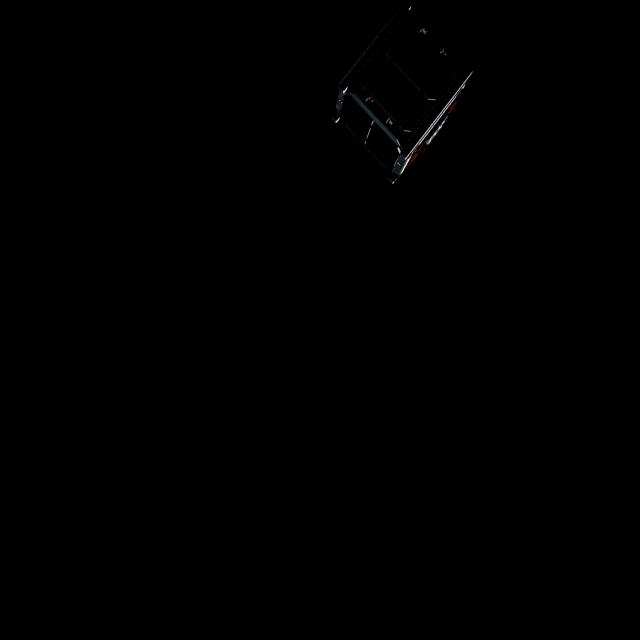satellite: (325, 3, 473, 194)
